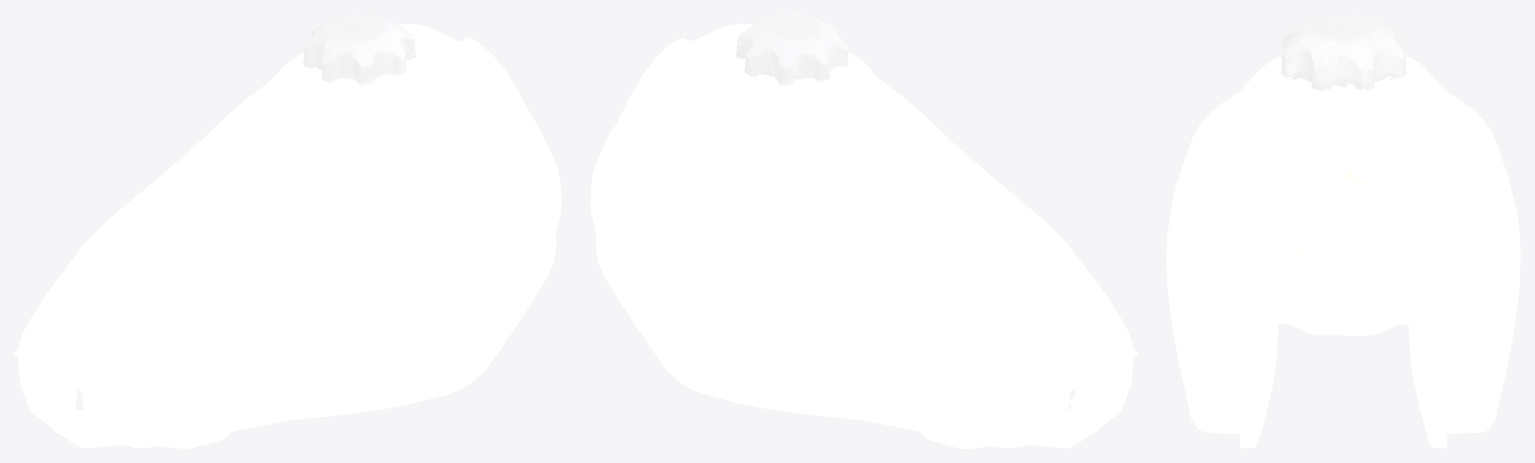
File: tank.glb
3 renders of one model, left to right at view 1: azimuth 30°, elevation 25°; view 2: azimuth 150°, elevation 25°; view 3: azimuth 270°, elevation 25°, orthographic. The views are drawn at different scales.
Parts seen in each view (by area): view 1: Mesh_0; view 2: Mesh_0; view 3: Mesh_0.
Boxes of the visible parts, x1=… form: Mesh_0: x1=14, y1=14, x2=561, y2=448; Mesh_0: x1=590, y1=14, x2=1137, y2=448; Mesh_0: x1=1166, y1=14, x2=1520, y2=448.
Bounding box in the file's own units: 1.9 × 1.23 × 0.9873.
Materials: 1 (1 with a texture image).
